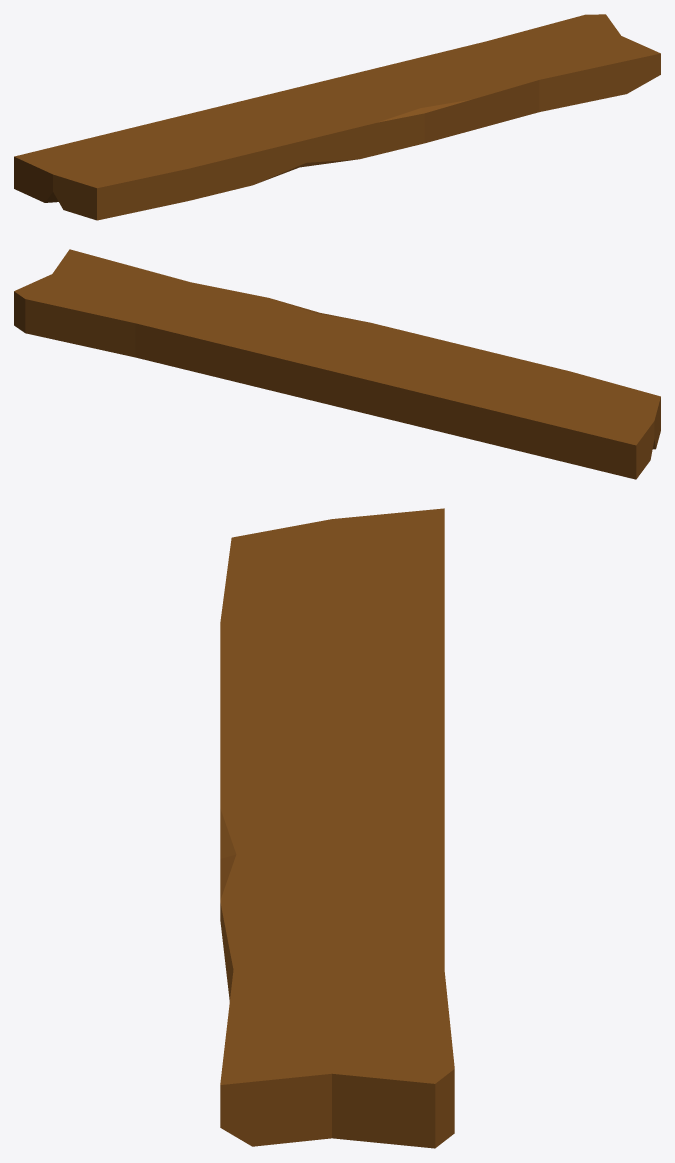
Rendered from debris.glb.
3 views of the same model, one above another, from view 1: azimuth 30°, elevation 25°; view 2: azimuth 150°, elevation 25°; view 3: azimuth 270°, elevation 25° (orthographic). The views are drawn at different scales.
Parts seen in each view (by area): view 1: Debris; view 2: Debris; view 3: Debris.
Boxes of the visible parts, left/top/right/bottom form: Debris: left=14, top=14, right=660, bottom=220; Debris: left=14, top=249, right=660, bottom=479; Debris: left=220, top=508, right=454, bottom=1148.
Bounding box in the file's own units: 0.8095 × 0.0423 × 0.1392.
